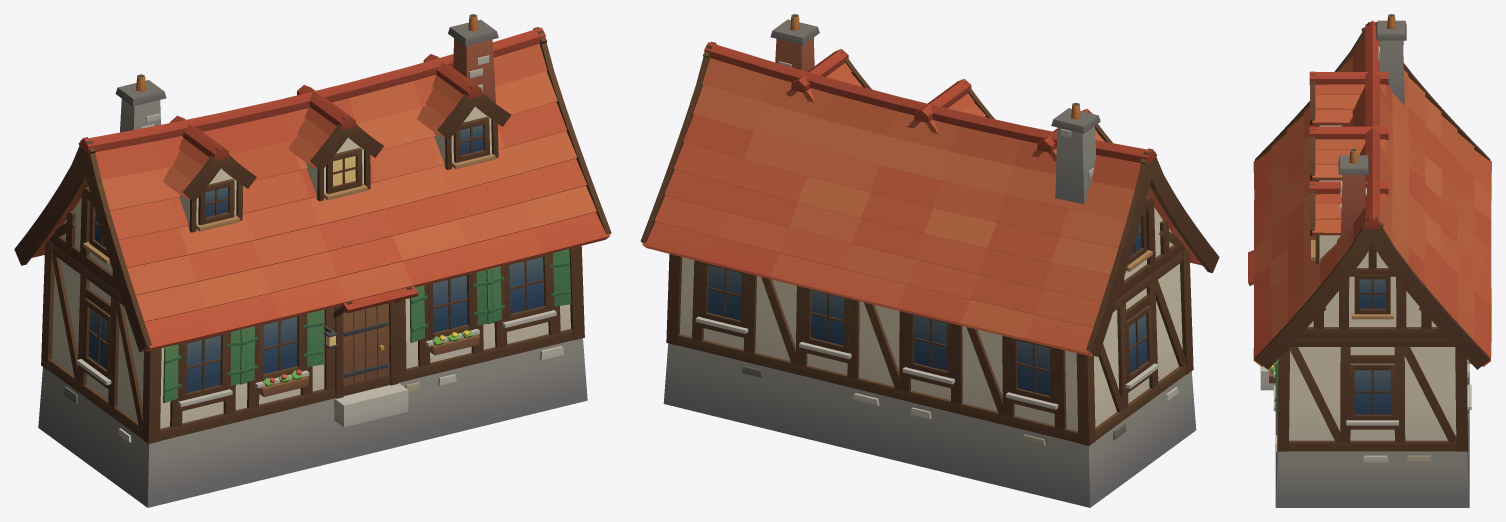
File: house_14_long_weaver_house.glb
3 renders of one model, left to right at view 1: azimuth 30°, elevation 25°; view 2: azimuth 150°, elevation 25°; view 3: azimuth 270°, elevation 25°, orthographic. The views are drawn at different scales.
Visible parts, largest first — view 1: house_14_long_weaver_house; view 2: house_14_long_weaver_house; view 3: house_14_long_weaver_house.
Boxes of the visible parts, box(x1,y1,x2,y2) form: house_14_long_weaver_house: box(14, 14, 611, 507); house_14_long_weaver_house: box(640, 14, 1219, 507); house_14_long_weaver_house: box(1248, 14, 1491, 507).
Bounding box in the file's own units: 40.4 × 30.68 × 20.7.
1 material, 1 textured.
